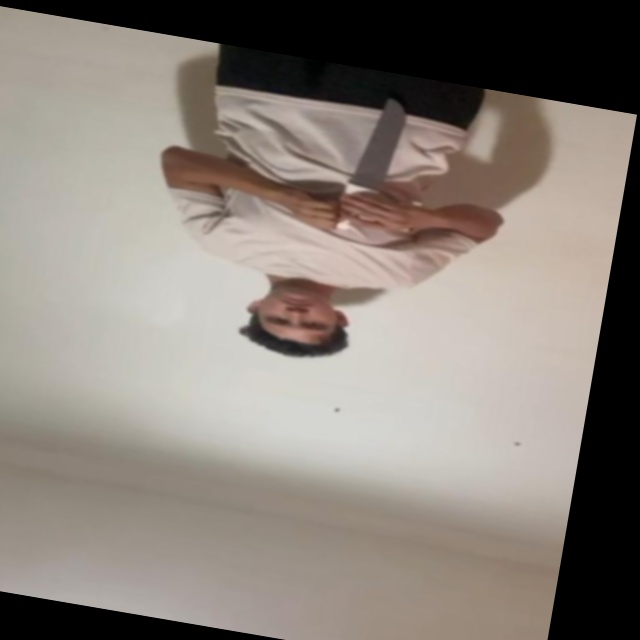Sharp-Object: (349, 92, 413, 191)
